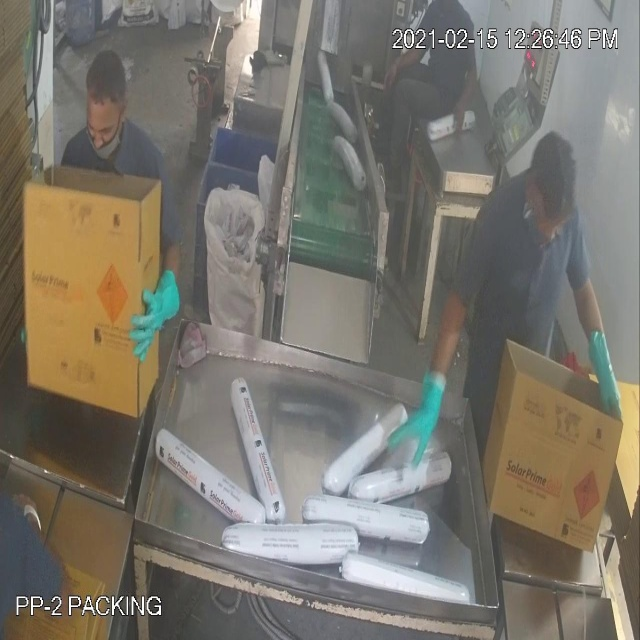Guantes: (380, 349, 449, 485), (570, 309, 630, 435), (118, 264, 185, 366)
Sin_guantes: (384, 44, 433, 100), (453, 61, 484, 147)
